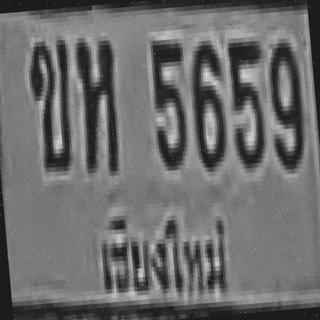A02: (26, 35, 76, 168)
A41: (73, 31, 119, 169)
N05: (147, 34, 190, 167), (225, 36, 268, 165)
N06: (186, 35, 227, 168)
N09: (264, 38, 305, 166)
P11: (88, 196, 236, 318)
